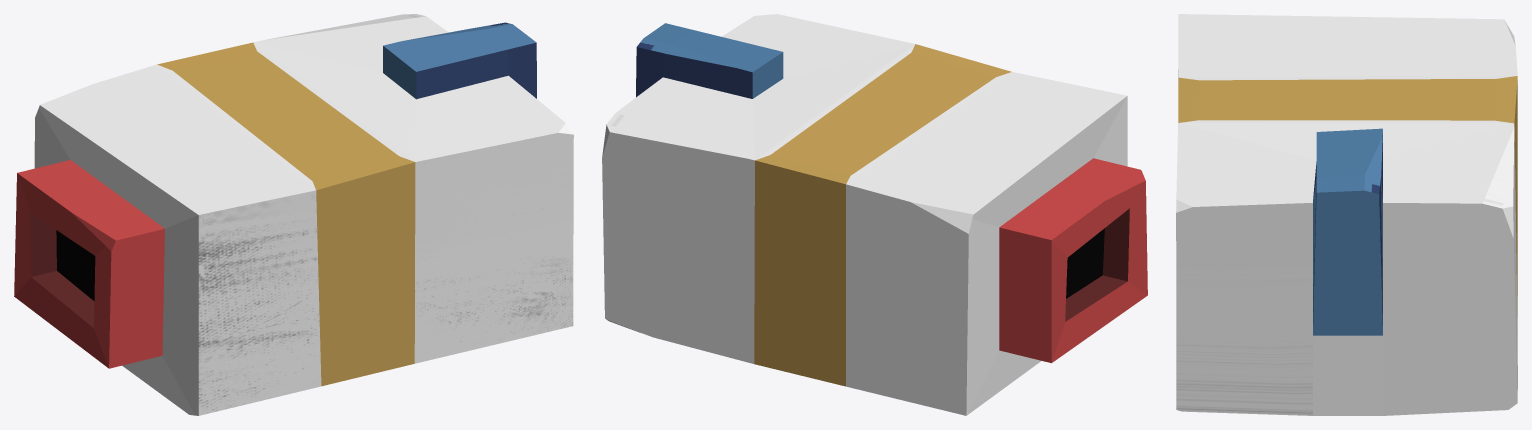
File: ship.fbx
The picture shows the model from 3 angles, left to right: view 1: azimuth 30°, elevation 25°; view 2: azimuth 150°, elevation 25°; view 3: azimuth 270°, elevation 25°; orthographic projection. The views are drawn at different scales.
Parts seen in each view (by area): view 1: Cube; view 2: Cube; view 3: Cube.
Boxes of the visible parts, <box> form: Cube: <box>14,14,573,415</box>; Cube: <box>602,14,1147,415</box>; Cube: <box>1176,14,1517,415</box>.
Bounding box in the file's own units: 291 × 466 × 227.
